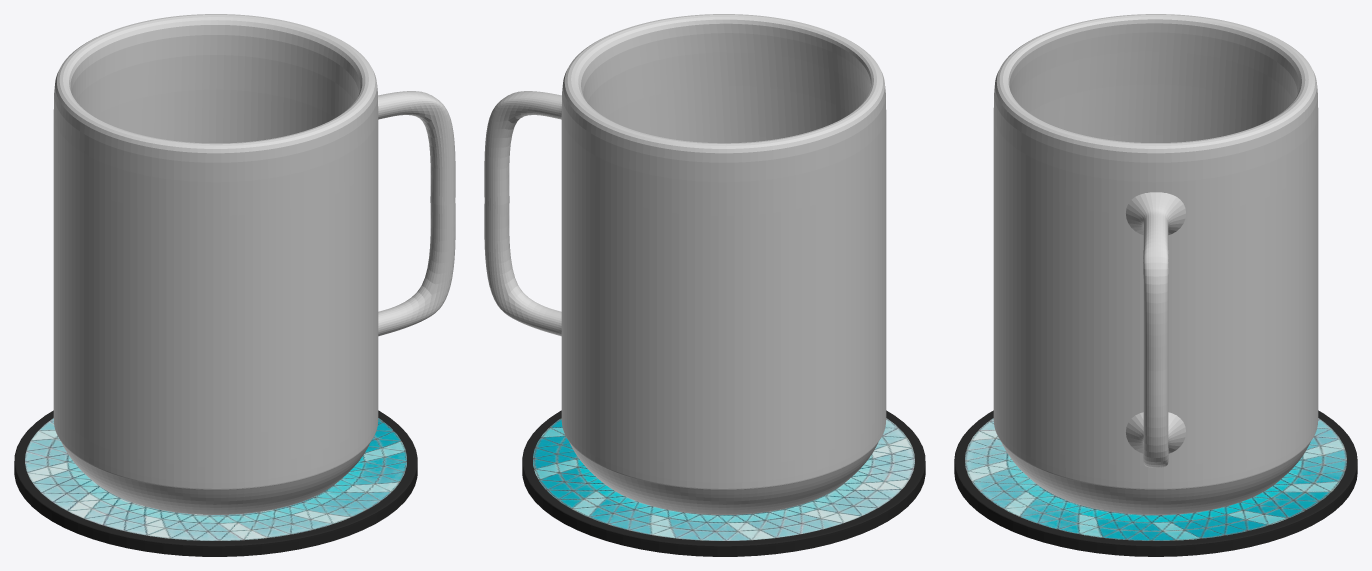
File: coffee cup.glb
3 views of the same model, side by side, from view 1: azimuth 30°, elevation 25°; view 2: azimuth 150°, elevation 25°; view 3: azimuth 270°, elevation 25° (orthographic).
Visible parts, largest first — view 1: Cylinder; view 2: Cylinder; view 3: Cylinder.
Boxes of the visible parts, x1,y1,x2,y2 form: Cylinder: (14, 14, 455, 556); Cylinder: (484, 14, 925, 556); Cylinder: (954, 14, 1357, 556).
Size of the model in its own units: 4.74 by 4.33 by 4.01.
Materials: 3 (1 with a texture image).
